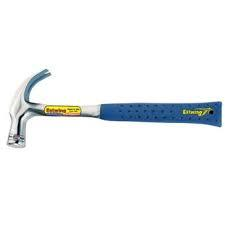hammer: (4, 66, 224, 149)
